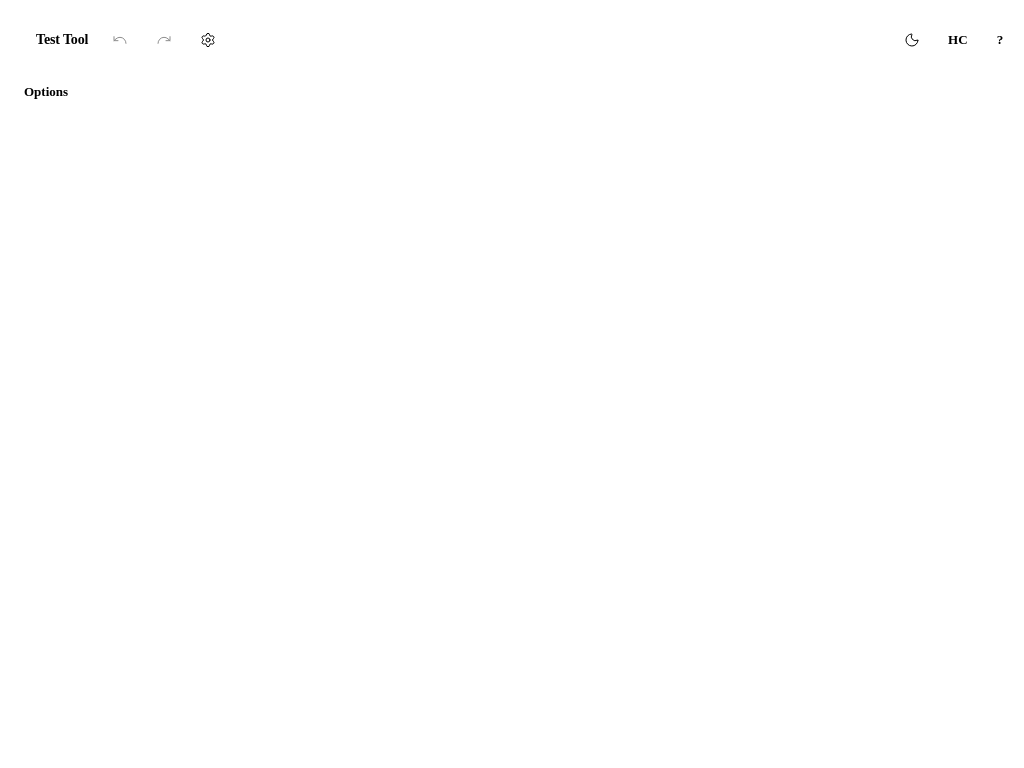
Test case: ToolShell › opens shortcuts overlay from toolbar button
The image size is (1024, 768).
Click the button named "Keyboard shortcuts" at coordinates (1000, 40), box x1=984 y1=26 x2=1016 y2=54
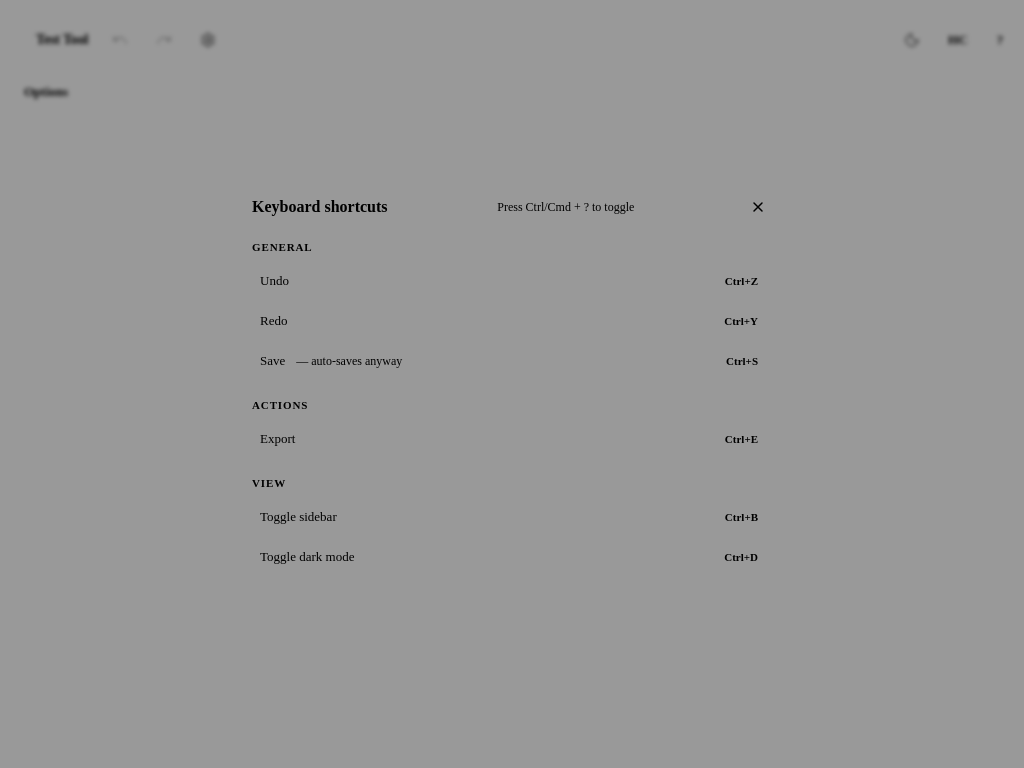
Check: the dialog "Keyboard shortcuts" is shown
Press Escape
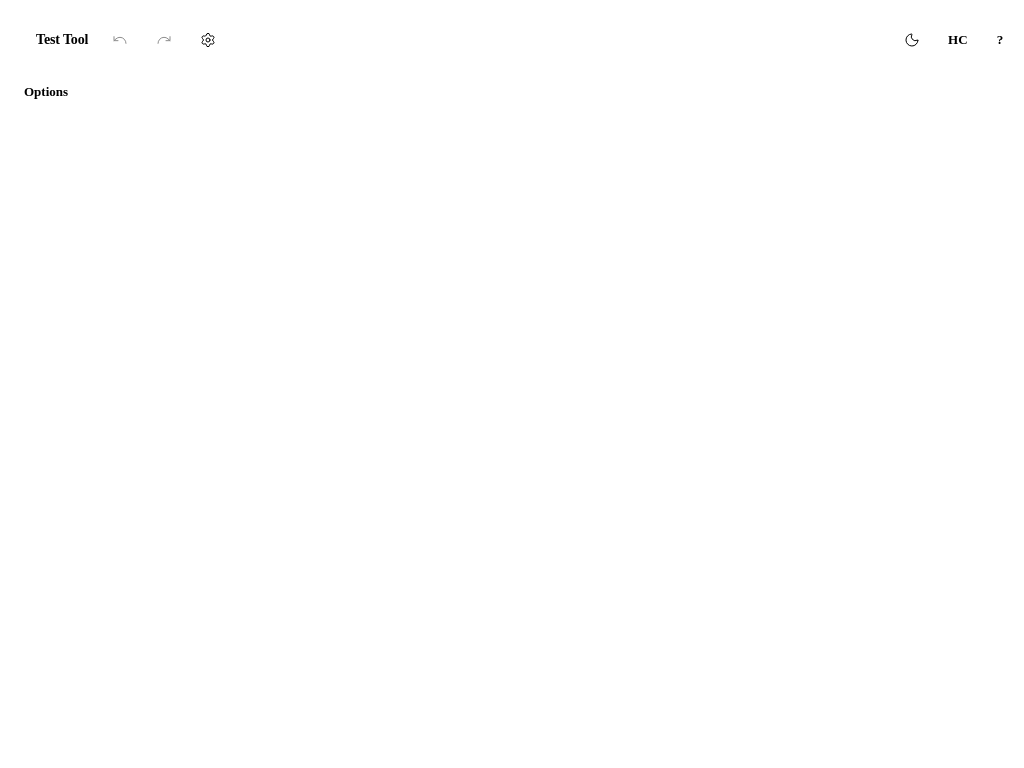
Check: the heading "Keyboard shortcuts" is gone
